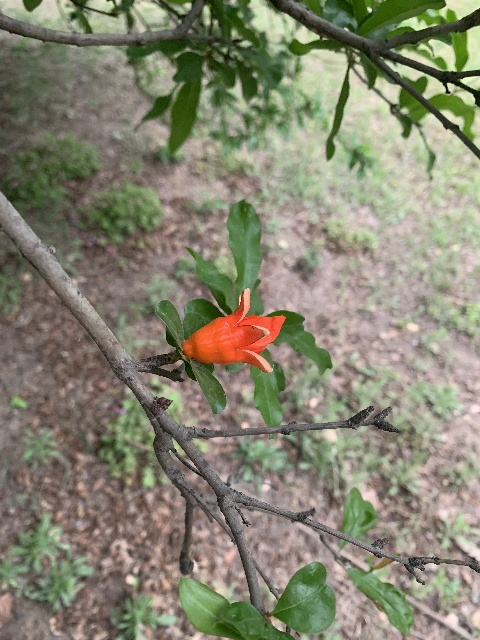flower: (182, 287, 285, 375)
